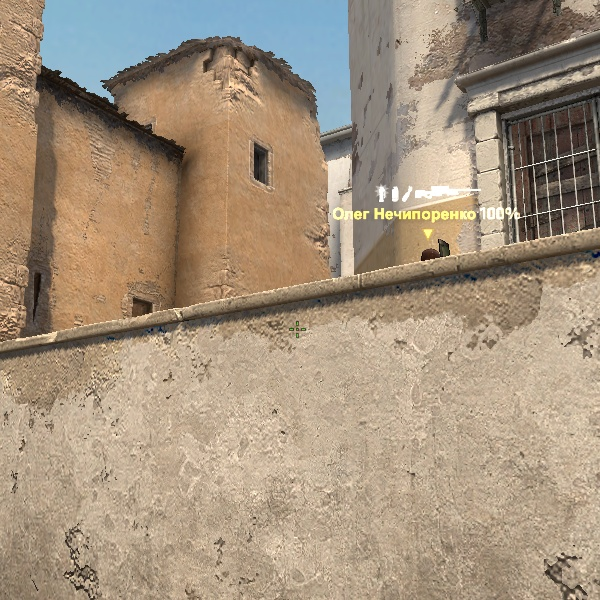t_body: (417, 240, 452, 259)
t_head: (420, 248, 442, 262)
